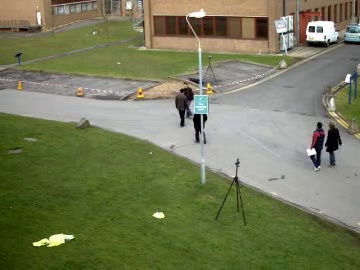person: (174, 88, 191, 126), (190, 108, 207, 146), (192, 108, 208, 146)
